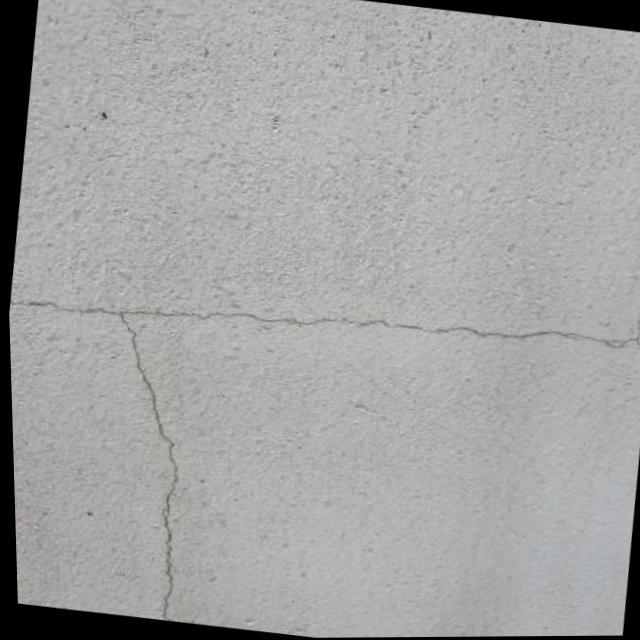Crack: (23, 271, 625, 596), (23, 282, 204, 595), (216, 286, 624, 357)
